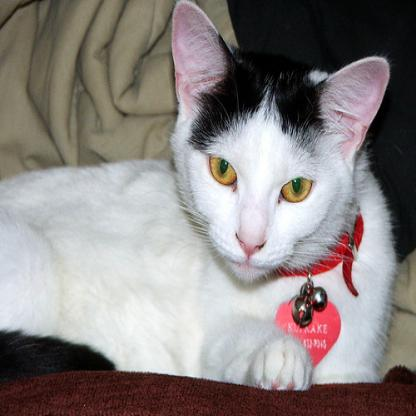cat: (54, 6, 405, 409)
